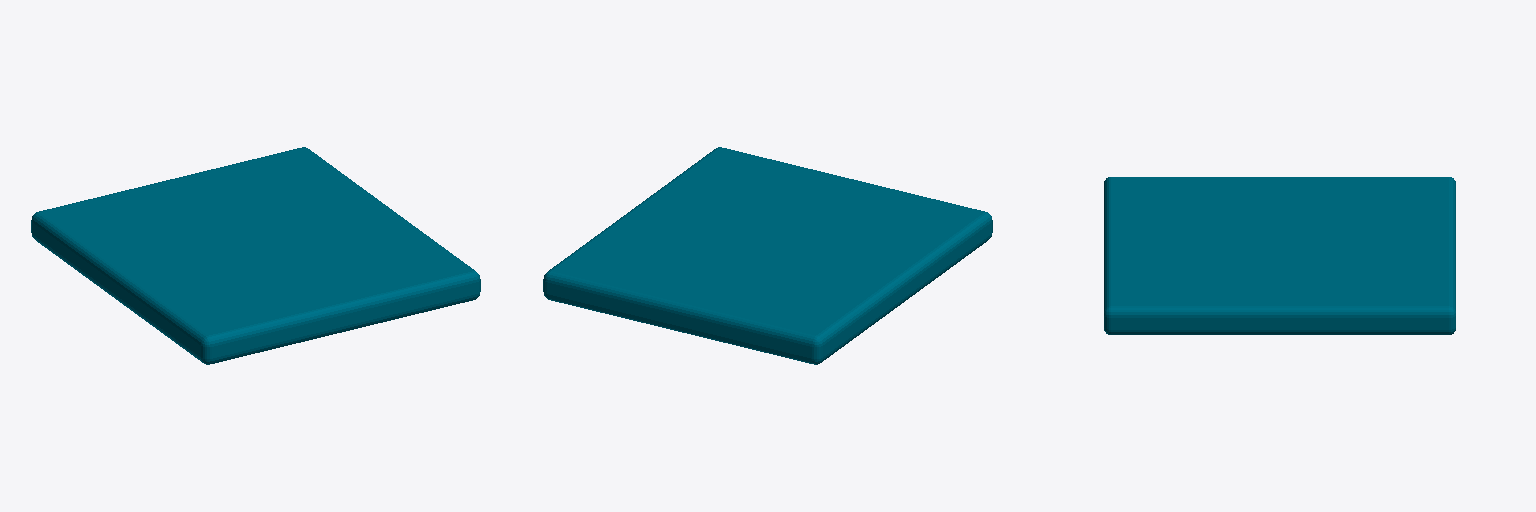
File: BlueMat.obj
3 views of the same model, side by side, from view 1: azimuth 30°, elevation 25°; view 2: azimuth 150°, elevation 25°; view 3: azimuth 270°, elevation 25° (orthographic).
Visible parts, largest first — view 1: Blue_Mat_Plane.012; view 2: Blue_Mat_Plane.012; view 3: Blue_Mat_Plane.012.
Part boxes in pixels (bbox=[...]): Blue_Mat_Plane.012: bbox=[31, 147, 480, 364]; Blue_Mat_Plane.012: bbox=[543, 147, 992, 364]; Blue_Mat_Plane.012: bbox=[1104, 177, 1455, 334].
Bounding box in the file's own units: 0.8763 × 0.0858 × 0.9621.